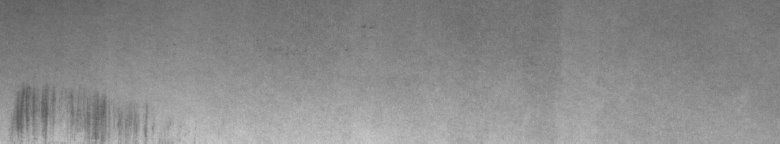ka: (9, 84, 148, 136)
